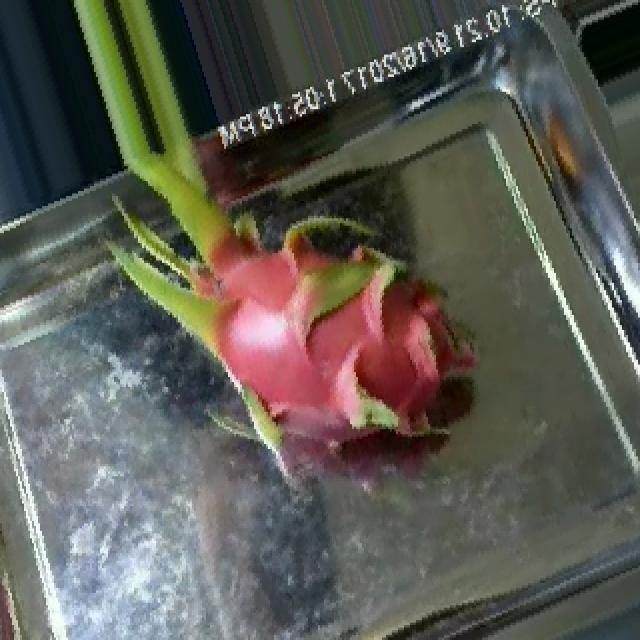fruit: (66, 80, 510, 538)
